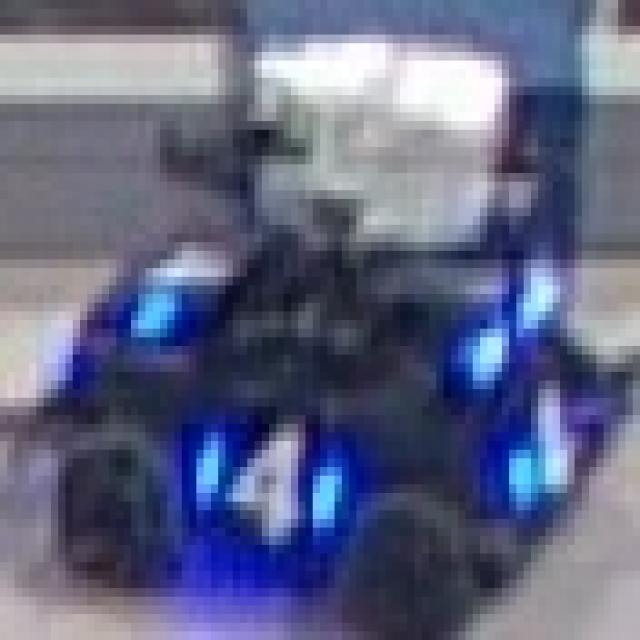B4: (167, 372, 349, 562), (480, 355, 604, 510), (102, 212, 233, 333)
